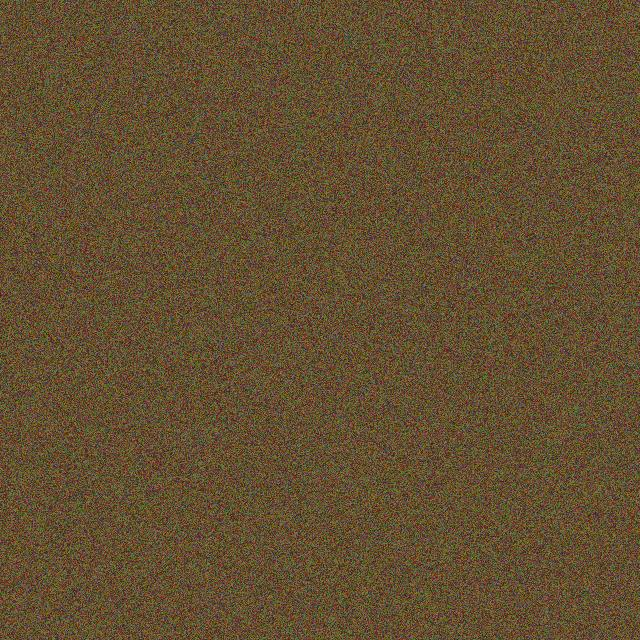ghost_net: (146, 268, 231, 303)
